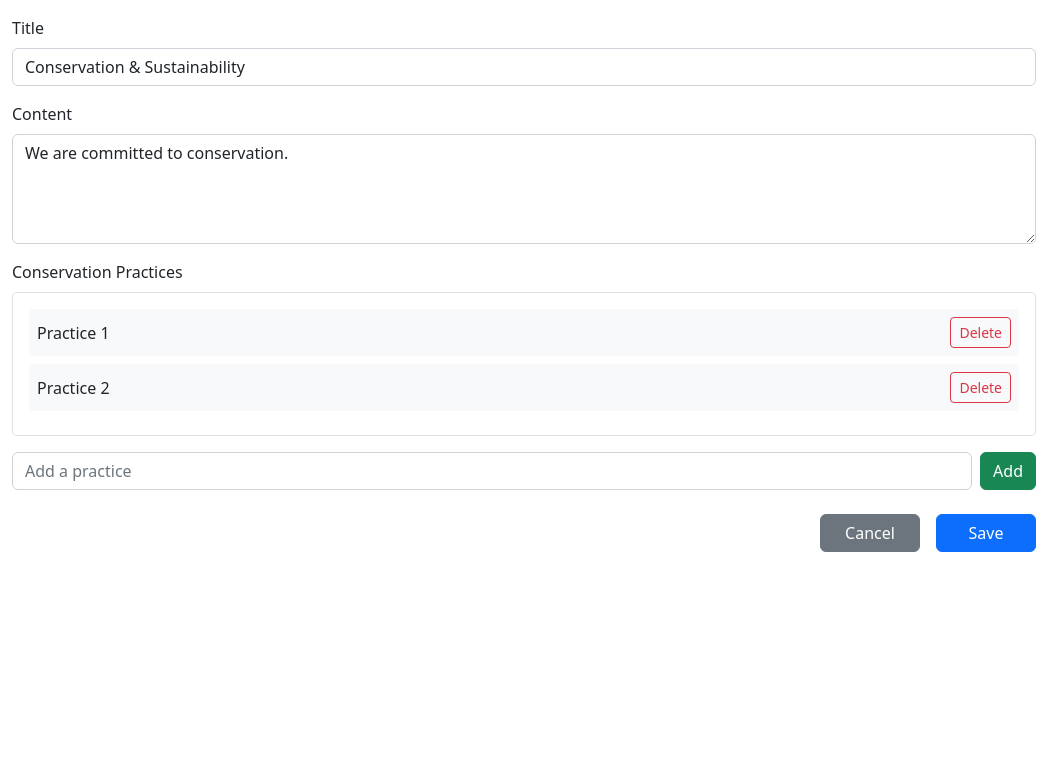
ConservationForm › should delete practice when delete button clicked
What coordinates should you click on to do the following:
click the button "Delete" in the row of "Practice 1"
I would click on:
 (981, 332)
Its box is x1=950 y1=317 x2=1011 y2=348.
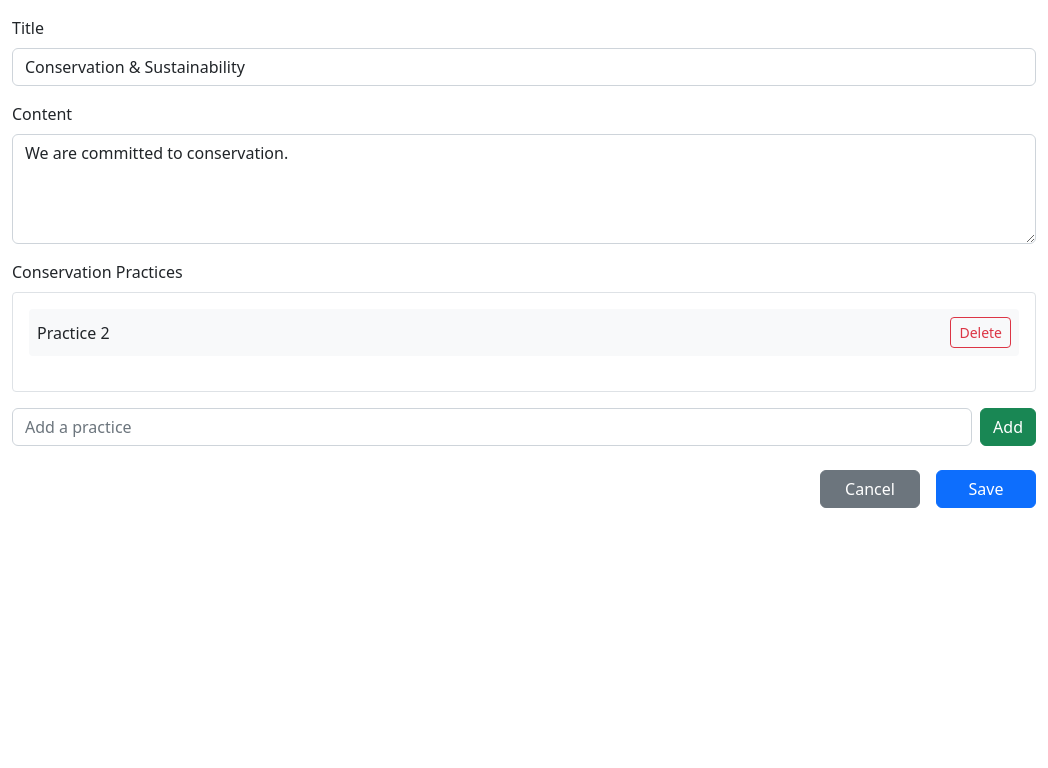
Expected: the text "Practice 1" is gone
Expected: the text "Practice 2" is shown, x1=37 y1=322 x2=110 y2=344
